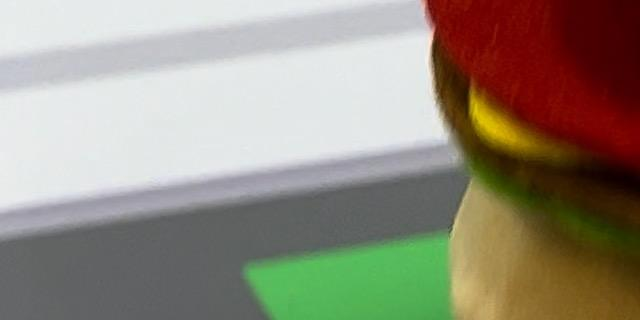burger: (395, 0, 640, 320)
